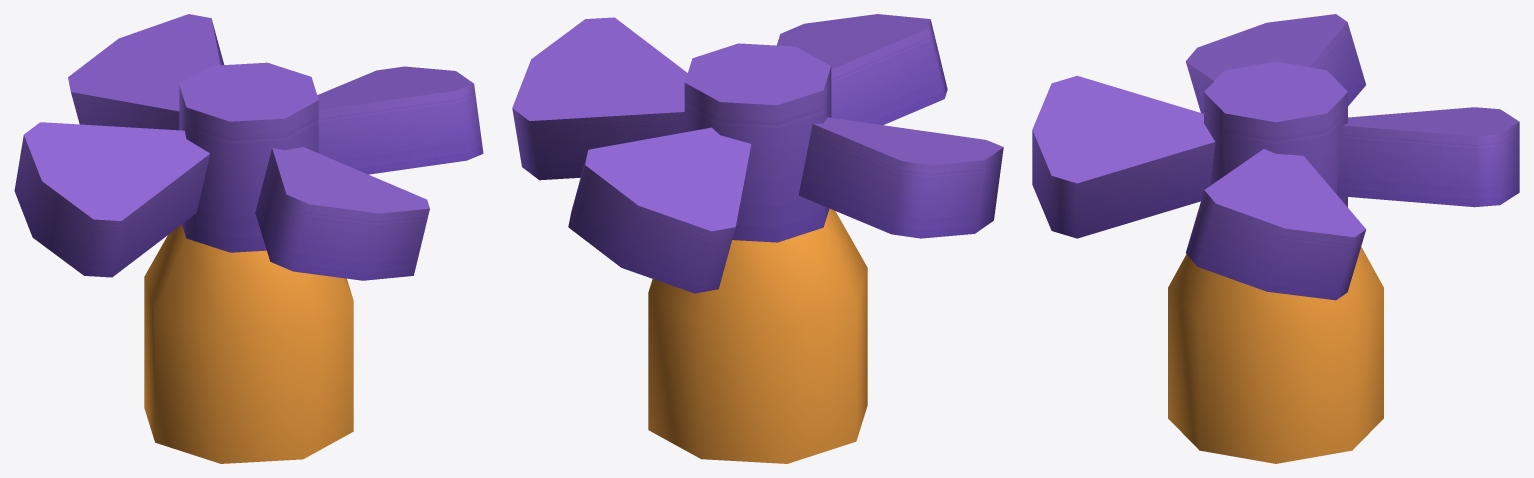
The model's file is fan-simple-four.glb.
3 views of the same model, side by side, from view 1: azimuth 30°, elevation 25°; view 2: azimuth 150°, elevation 25°; view 3: azimuth 270°, elevation 25° (orthographic). The views are drawn at different scales.
Parts seen in each view (by area): view 1: fan, fan-simple-four; view 2: fan, fan-simple-four; view 3: fan, fan-simple-four.
Boxes of the visible parts, x1,y1,x2,y2 form: fan: (14, 14, 483, 280); fan-simple-four: (144, 62, 353, 463); fan: (512, 14, 1003, 293); fan-simple-four: (648, 43, 867, 463); fan: (1032, 14, 1519, 300); fan-simple-four: (1168, 61, 1383, 463).
Size of the model in its own units: 0.6765 by 0.5 by 0.6765.
1 material, 1 textured.
